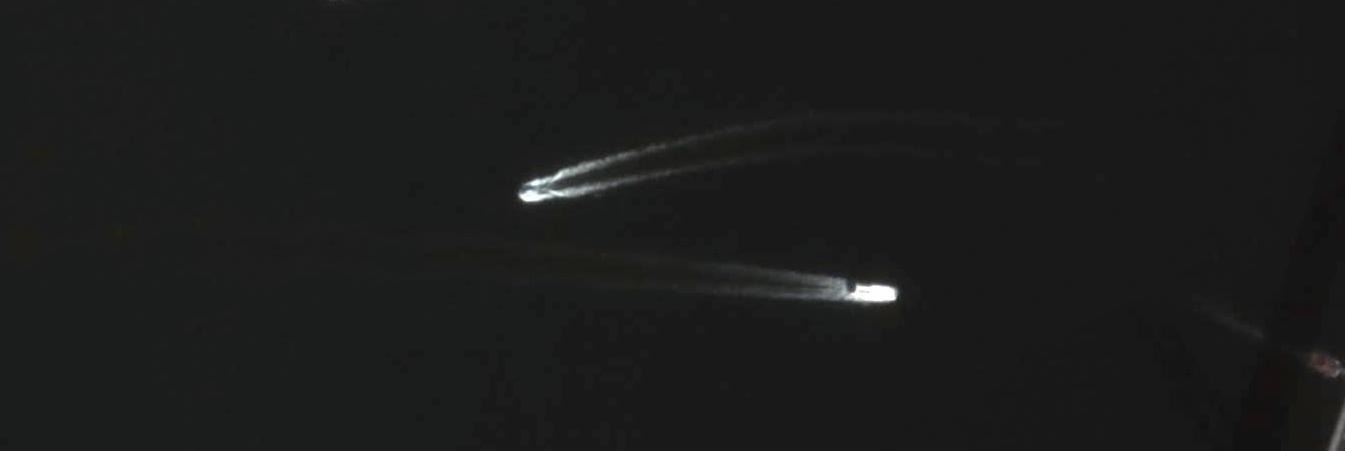person: (853, 283, 898, 303), (520, 186, 536, 194)
